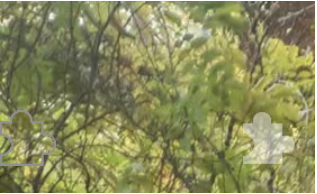target: (239, 109, 299, 169)
